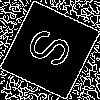S: (24, 25, 83, 76)
